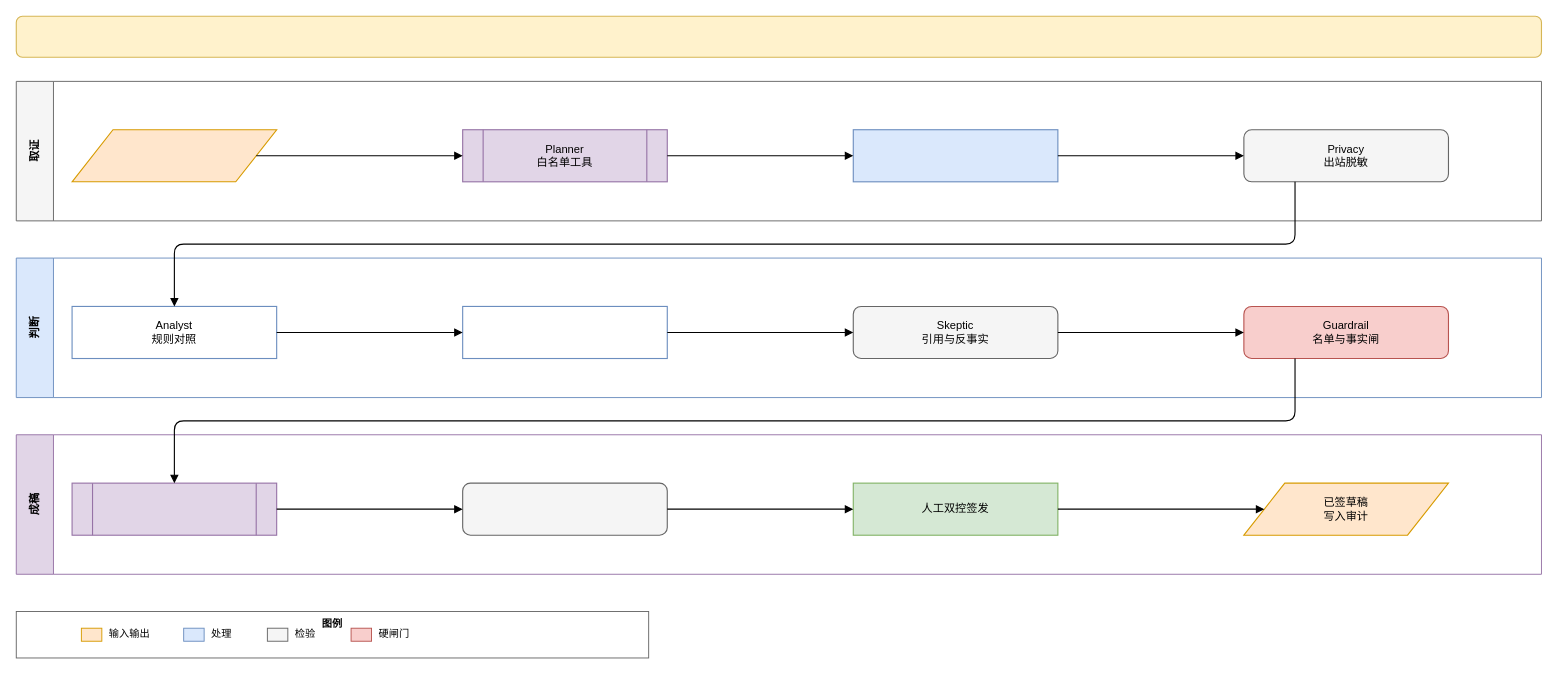
Image size: 1559x675. Some labels were removed from this diagram. The centre of each missing label's shape, as x and y in pixels:
"Assemble can_sign 闸门" belongs at pixel 564 508.
"Collector 证据与样本" belongs at pixel 955 155.
"Judge 排除/关注/建议报" belongs at pixel 564 332.
"Reporter 四段调查底稿" belongs at pixel 174 508.
"案件告警 窗口流水" belongs at pixel 174 155.
"调查编排：规划只读工具 → 证据进模脱敏 → Judge 建议 → 核验护栏 → 底稿，始终由人签发" belongs at pixel 778 36.
